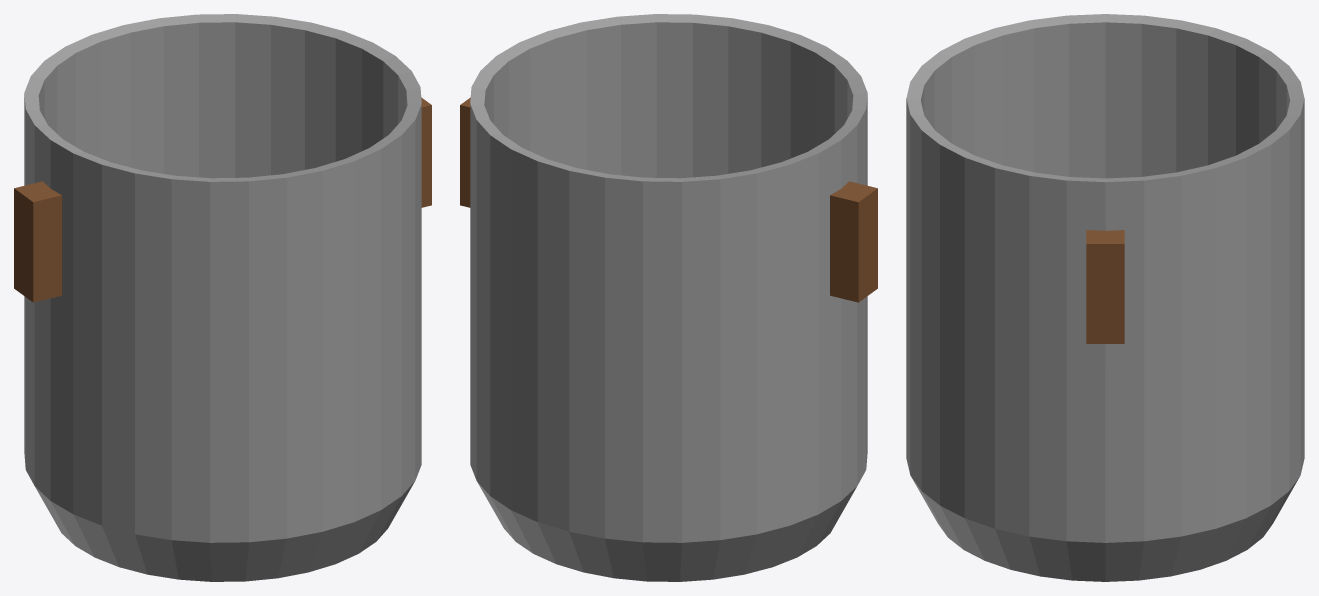
File: Bucket.fbx
3 views of the same model, side by side, from view 1: azimuth 30°, elevation 25°; view 2: azimuth 150°, elevation 25°; view 3: azimuth 270°, elevation 25° (orthographic).
Visible parts, largest first — view 1: Cylinder; view 2: Cylinder; view 3: Cylinder.
Boxes of the visible parts, x1,y1,x2,y2 form: Cylinder: [14, 14, 431, 581]; Cylinder: [460, 14, 877, 581]; Cylinder: [906, 14, 1304, 581].
Size of the model in its own units: 231 by 228 by 200.
